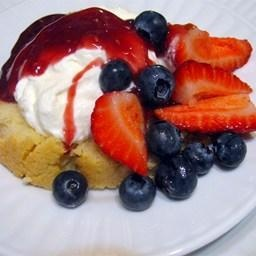background: (0, 2, 102, 84)
